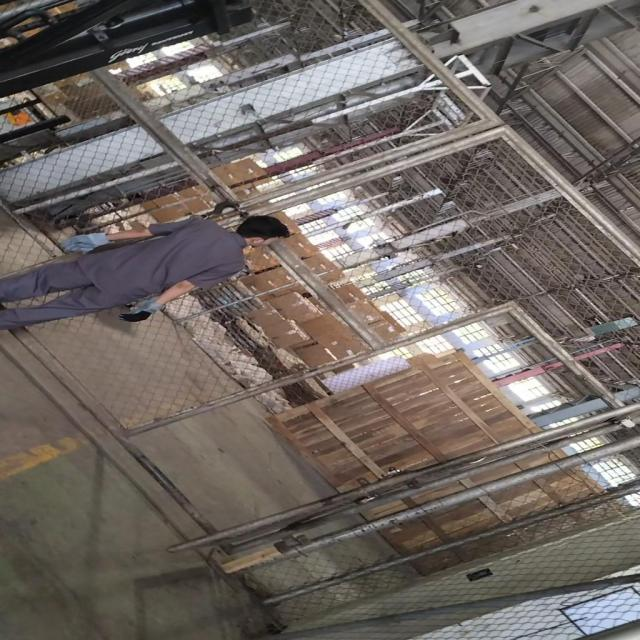Gloves-Detection: (60, 230, 104, 260), (122, 296, 158, 326)
